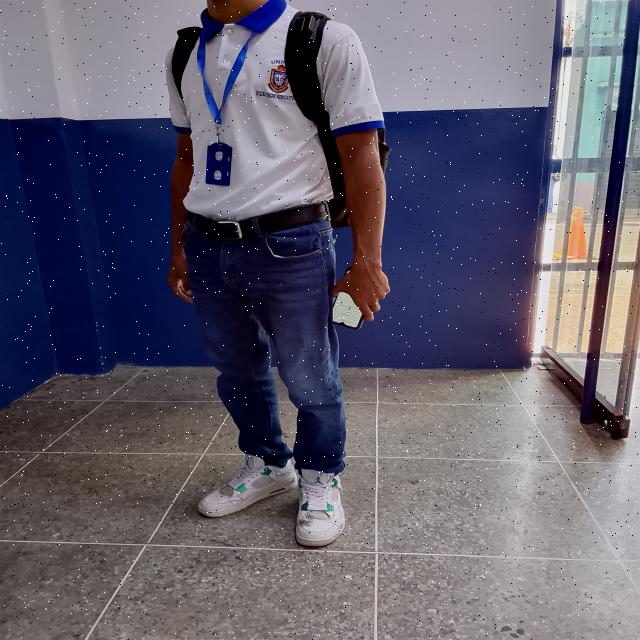carnet: (205, 145, 233, 186)
pantalon_oscuro: (182, 219, 348, 475)
uniforme_superior: (164, 0, 386, 222)
